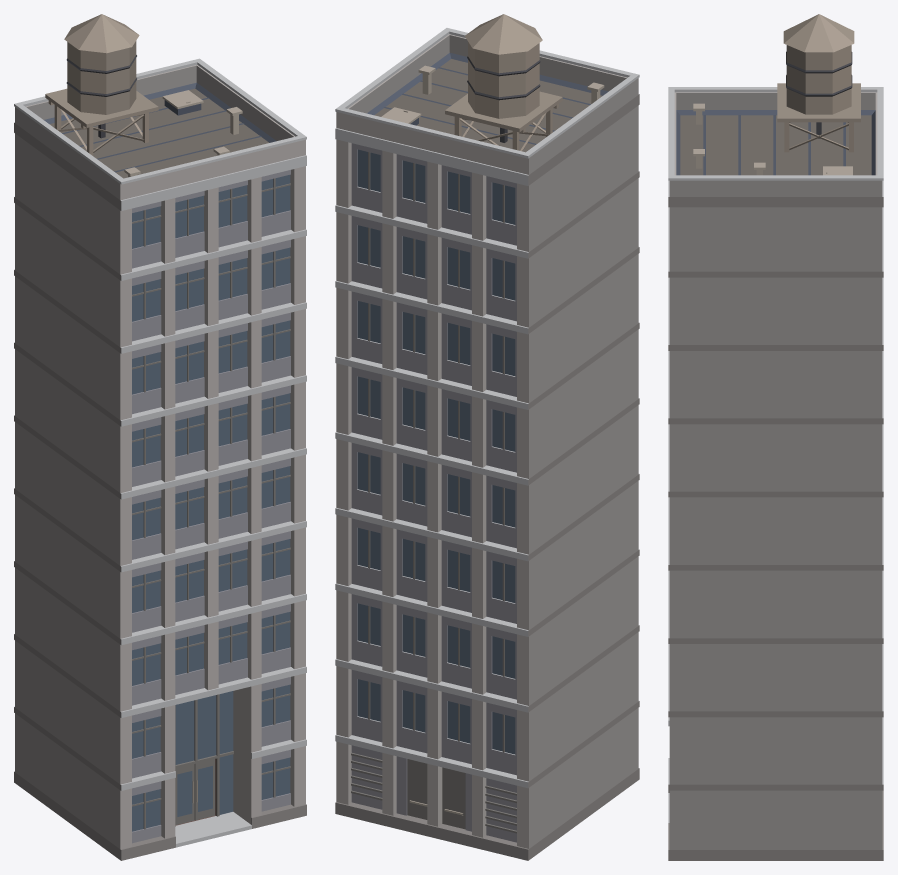
Rendered from city_office.glb.
3 renders of one model, left to right at view 1: azimuth 30°, elevation 25°; view 2: azimuth 150°, elevation 25°; view 3: azimuth 270°, elevation 25°, orthographic. The views are drawn at different scales.
Visible parts, largest first — view 1: city_office; view 2: city_office; view 3: city_office.
Boxes of the visible parts, x1=… form: city_office: x1=14, y1=14, x2=306, y2=860; city_office: x1=335, y1=14, x2=639, y2=860; city_office: x1=668, y1=14, x2=883, y2=860.
Size of the model in its own units: 10.98 by 44 by 10.98.
